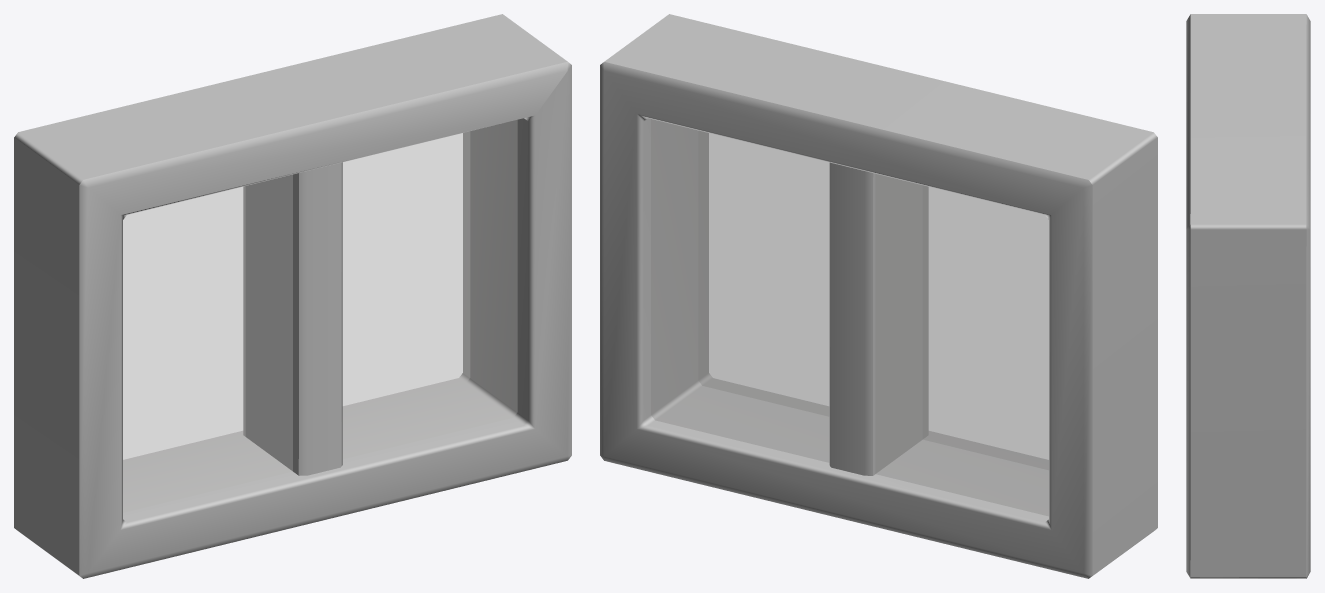
File: Window_36.fbx
3 renders of one model, left to right at view 1: azimuth 30°, elevation 25°; view 2: azimuth 150°, elevation 25°; view 3: azimuth 270°, elevation 25°, orthographic. The views are drawn at different scales.
Parts seen in each view (by area): view 1: Window_36; view 2: Window_36; view 3: Window_36.
Part boxes in pixels (<box>): Window_36: <box>14,14,571,578</box>; Window_36: <box>600,14,1157,578</box>; Window_36: <box>1186,14,1310,578</box>.
Size of the model in its own units: 228 by 176 by 55.95.
